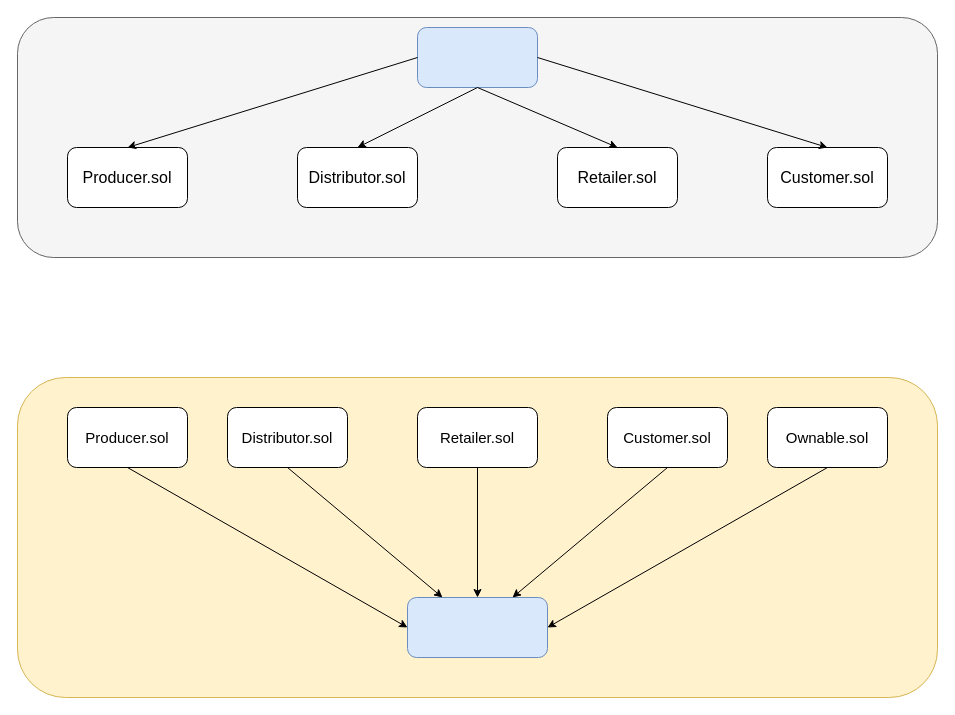
Some shapes in this 955 by 715 pixel diagram are drawn without their labels. Each missing label, with the centre of its shape:
Roles.sol: (x=477, y=57)
SupplyChain.sol: (x=477, y=627)
